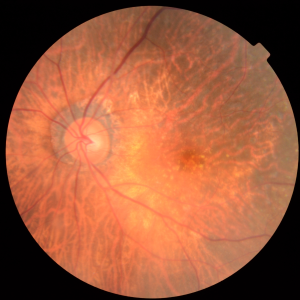retina_disease: (48, 94, 233, 206)
